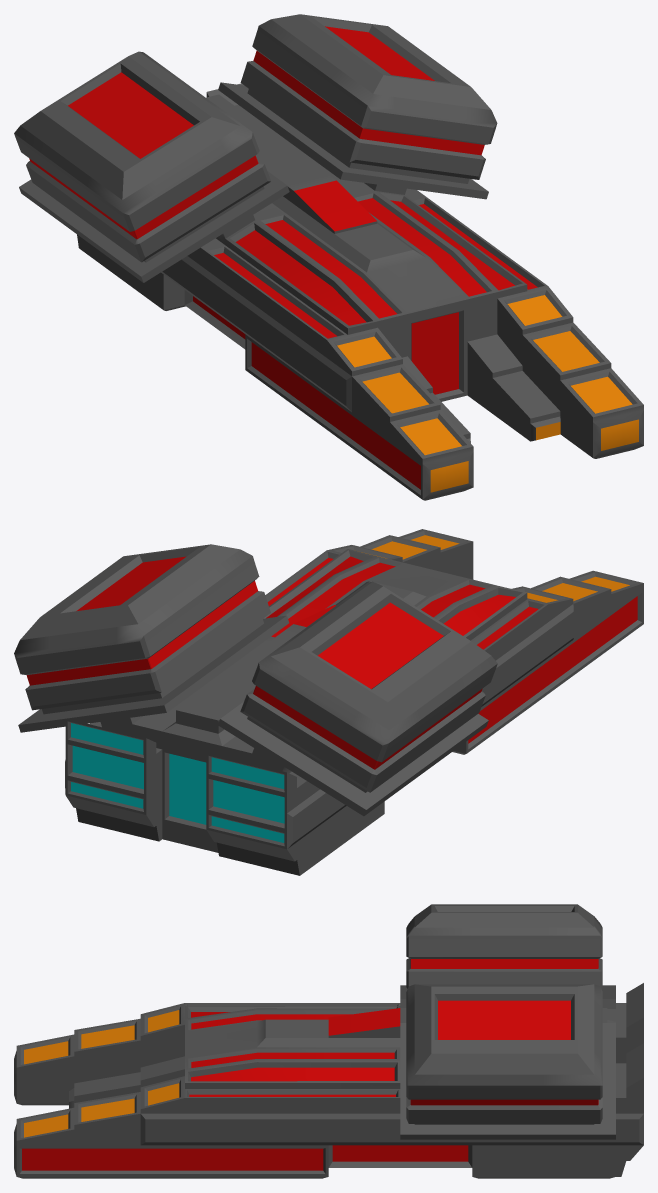
Rendered from Suicide car.fbx.
3 views of the same model, one above another, from view 1: azimuth 30°, elevation 25°; view 2: azimuth 150°, elevation 25°; view 3: azimuth 270°, elevation 25° (orthographic). The views are drawn at different scales.
Parts seen in each view (by area): view 1: pCube1; view 2: pCube1; view 3: pCube1.
Part boxes in pixels (x1,y1,x2,y2): pCube1: [14, 14, 643, 500]; pCube1: [14, 529, 643, 875]; pCube1: [14, 904, 643, 1178].
Size of the model in its own units: 263 by 140 by 435.
